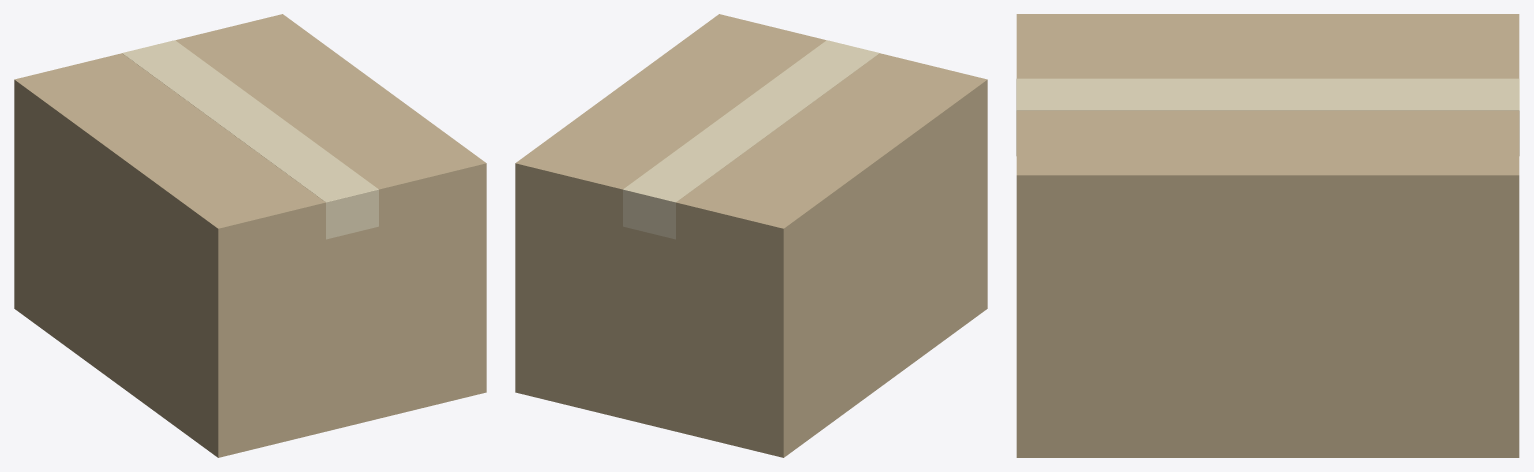
Rendered from cardboard-box.glb.
The picture shows the model from 3 angles, left to right: view 1: azimuth 30°, elevation 25°; view 2: azimuth 150°, elevation 25°; view 3: azimuth 270°, elevation 25°; orthographic projection. The views are drawn at different scales.
Parts seen in each view (by area): view 1: Box, Tape; view 2: Box, Tape; view 3: Box, Tape.
Part boxes in pixels (x1=…): Box: x1=14, y1=14, x2=486, y2=457; Tape: x1=122, y1=40, x2=378, y2=239; Box: x1=515, y1=14, x2=987, y2=457; Tape: x1=623, y1=40, x2=879, y2=239; Box: x1=1016, y1=14, x2=1519, y2=457; Tape: x1=1016, y1=78, x2=1519, y2=155.
Size of the model in its own units: 0.38 by 0.3102 by 0.5004.
